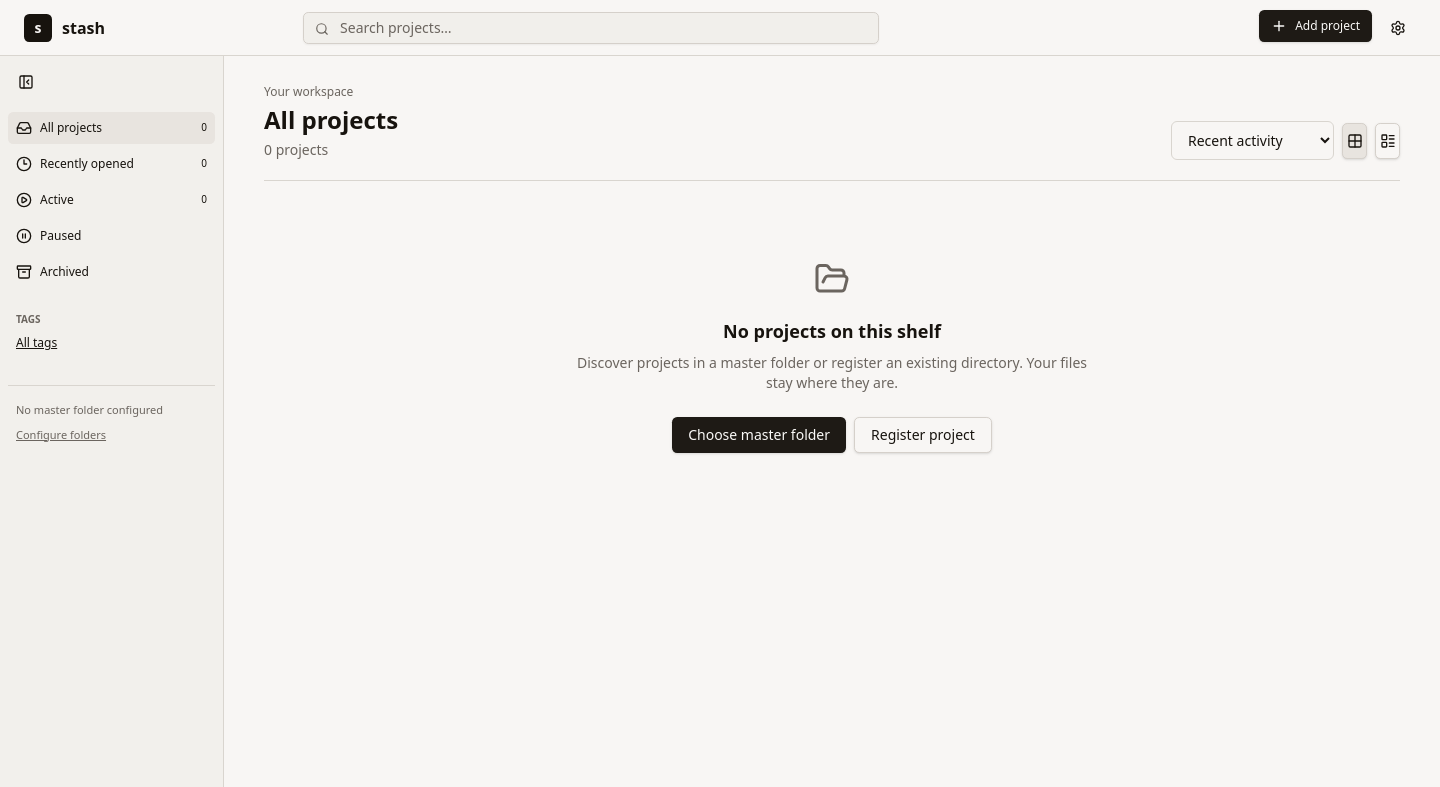
Test case: Real workspace workflow › registers an existing directory from the empty shelf
Expected: the heading "No projects on this shelf" is shown, top-left (723, 319), bottom-right (941, 343)
Click the button "Add project".
click(1316, 26)  # box top-left (1259, 10), bottom-right (1372, 42)
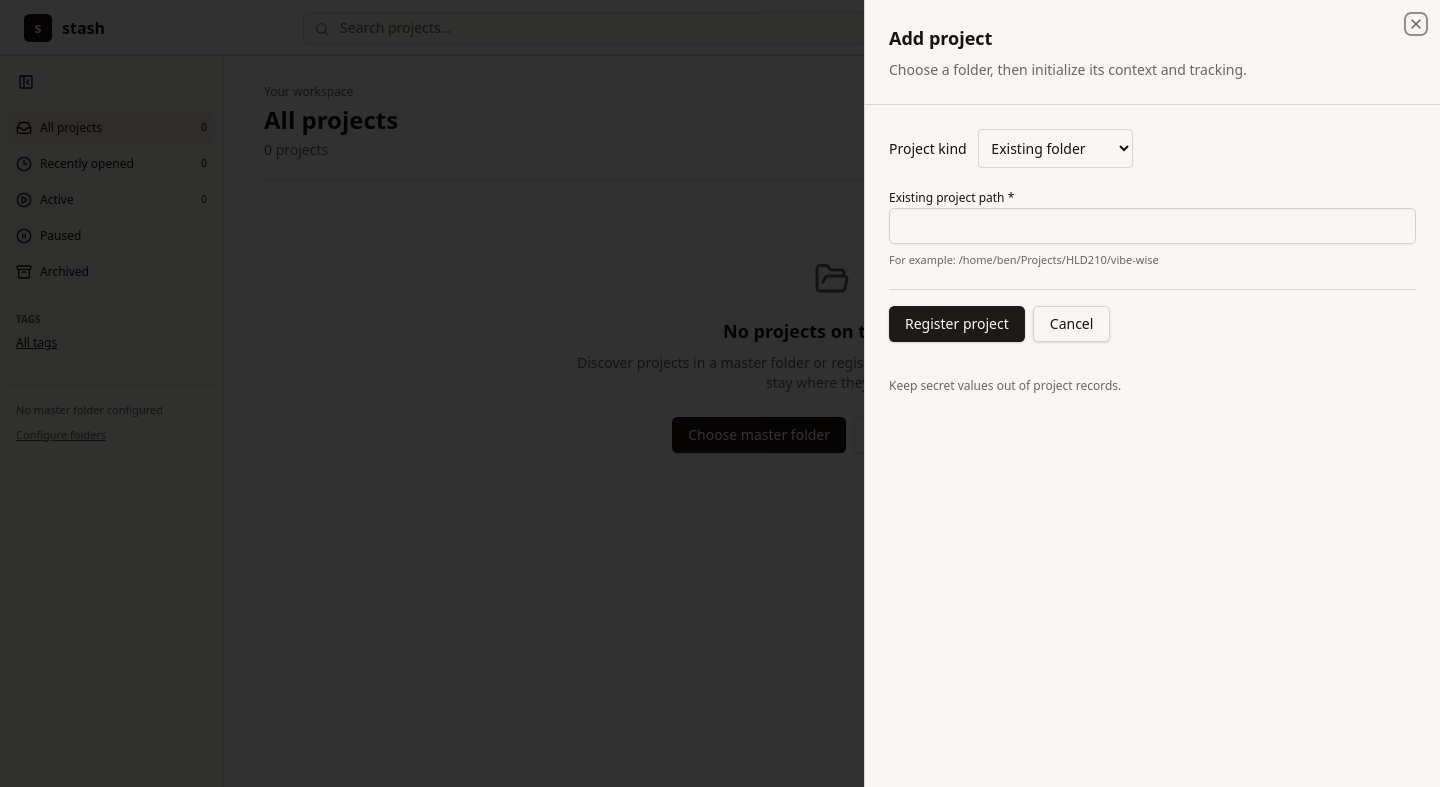
Type "/projects/new-project" into the field labelled "Existing project path".
click(1152, 226); type("/projects/new-project")  # box top-left (889, 208), bottom-right (1416, 244)
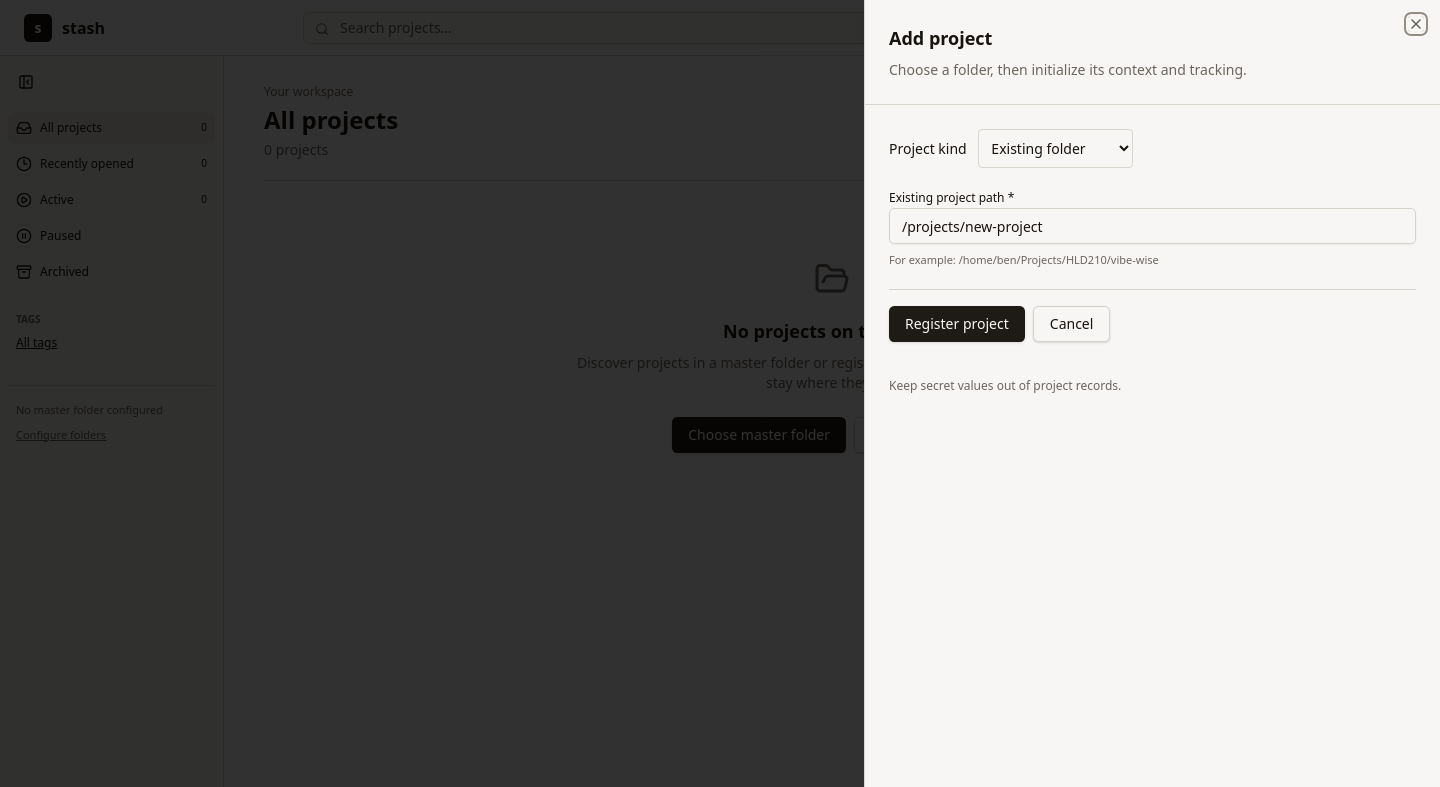
Click the button "Register project".
click(957, 324)  # box top-left (889, 306), bottom-right (1025, 342)
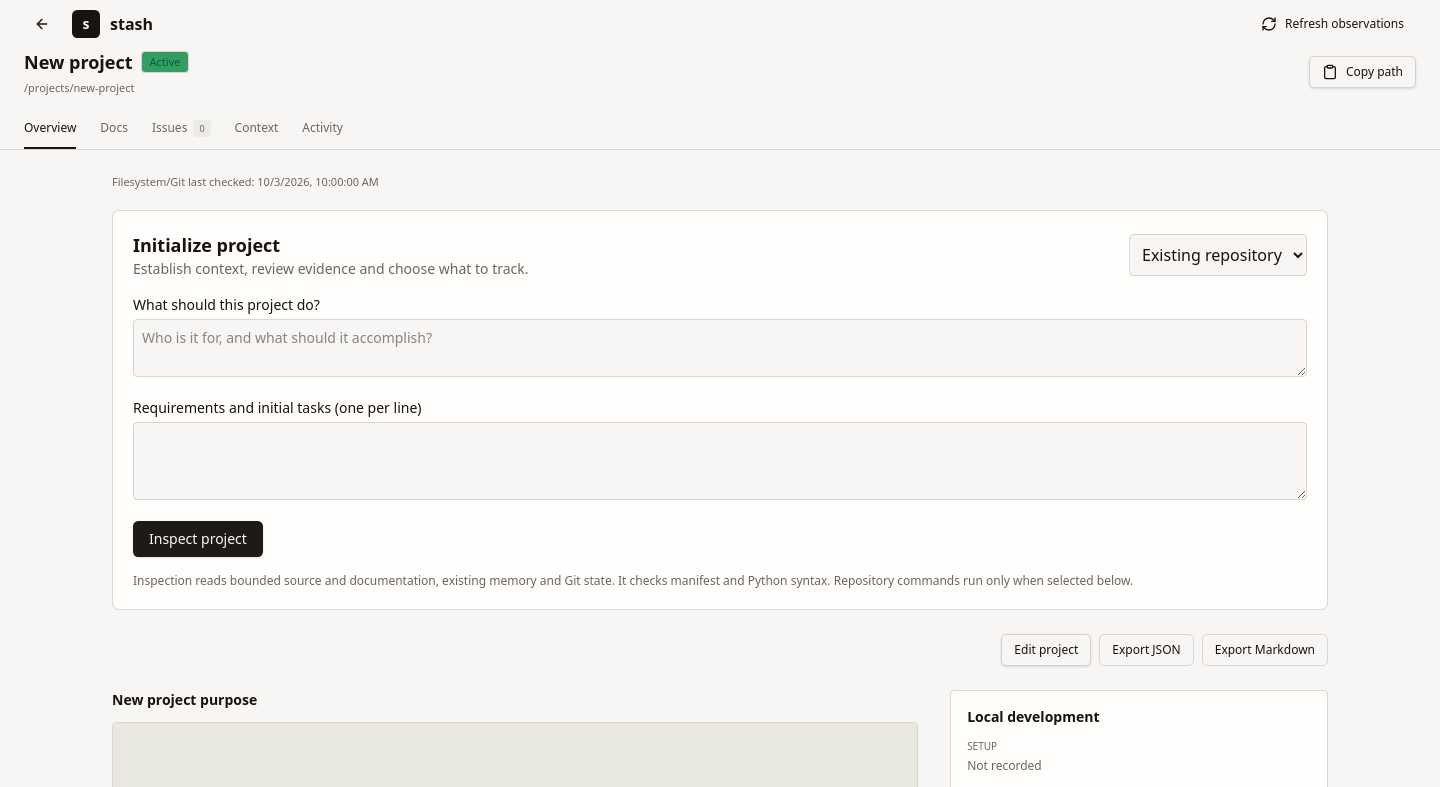
Now the heading "New project" is shown, box top-left (24, 48), bottom-right (132, 76)
